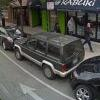Car: (8, 21, 75, 82)
